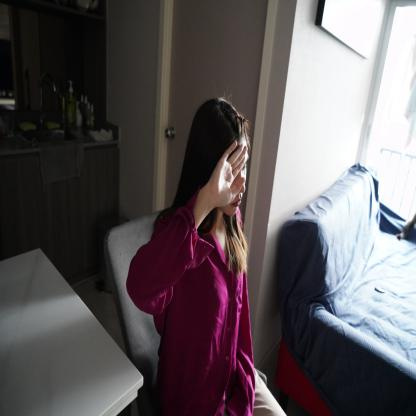Sick: (204, 136, 250, 214)
